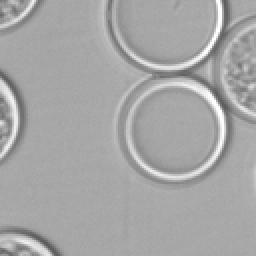picoshell: (118, 76, 228, 180), (106, 0, 224, 74), (212, 16, 254, 120), (0, 72, 22, 162), (0, 228, 58, 254)
